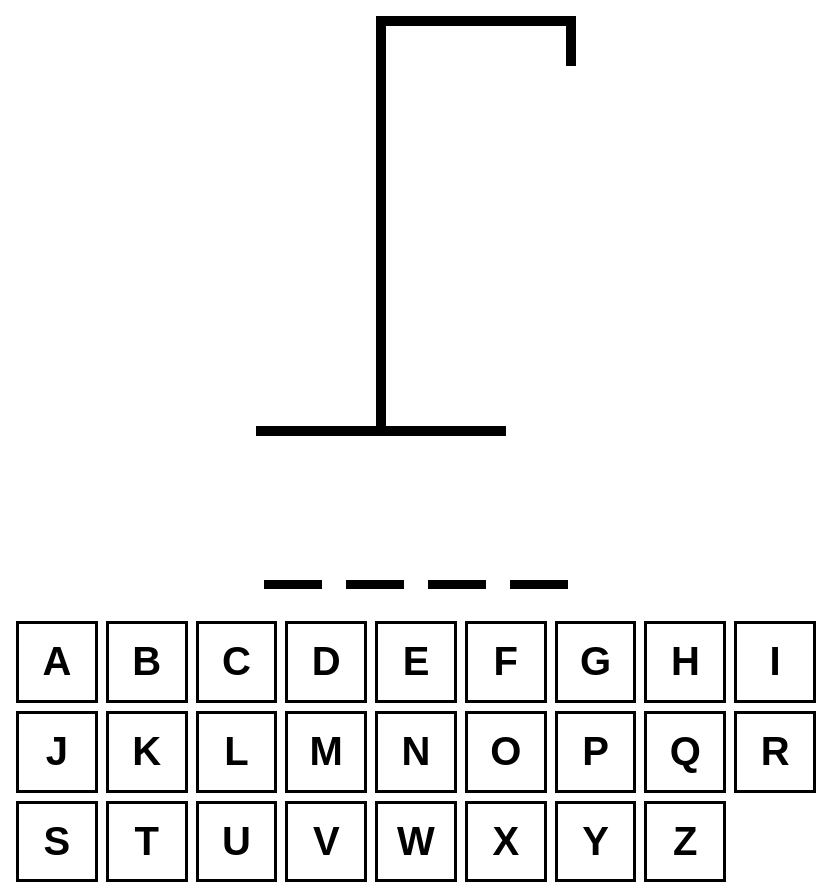
Test: Using the Hangman app › Ongoing game, after one or more guesses, until conclusion › Recognises a correct guess, after an incorrect one
(page scrolled)
What coordinates should you click on to do the following:
click the button "z"
I would click on:
 (685, 842)
Its box is [644,801,726,883].
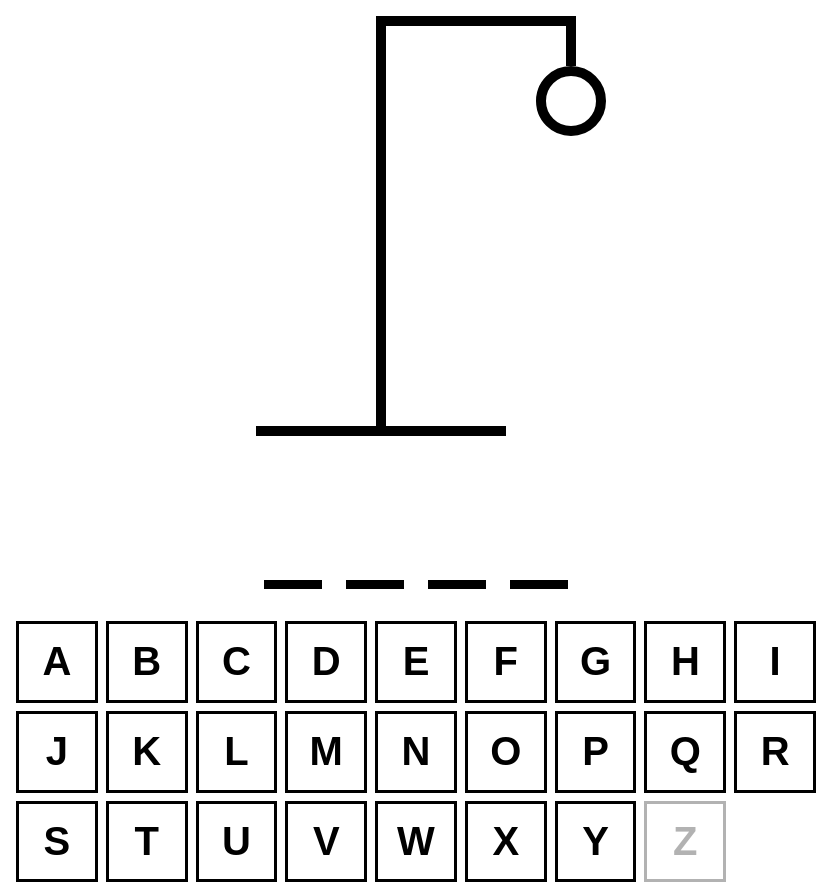
What coordinates should you click on to do the following:
click the button "p"
I would click on:
 (596, 752)
Its box is [555,711,637,793].
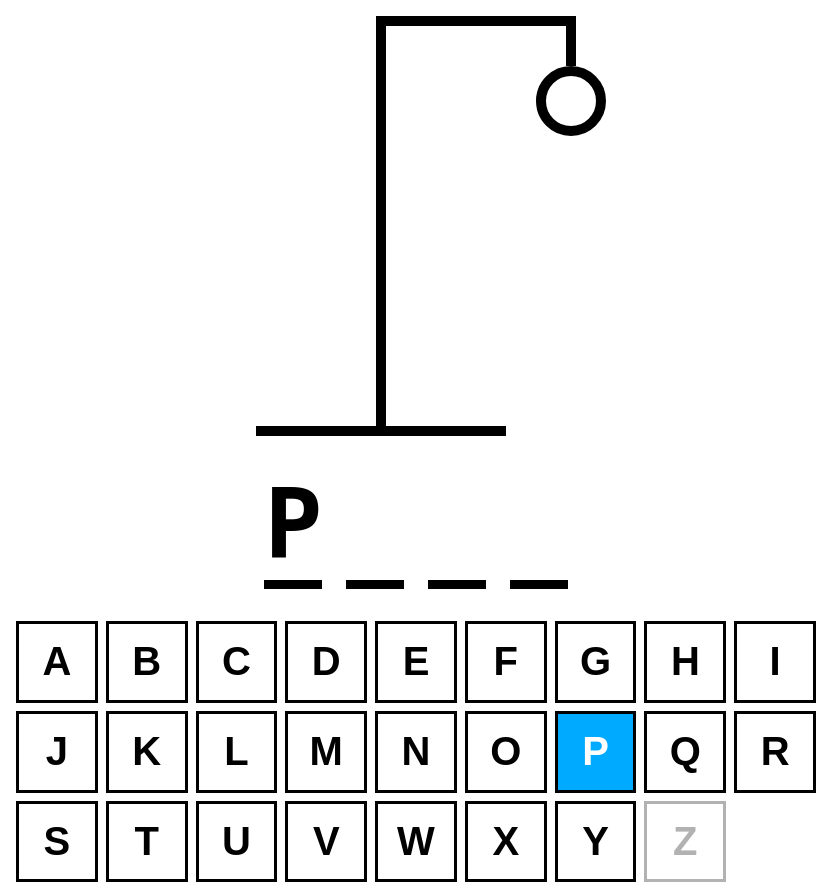
Check: the text with id "wordLetter" reads "p", box [264,468,322,580]
